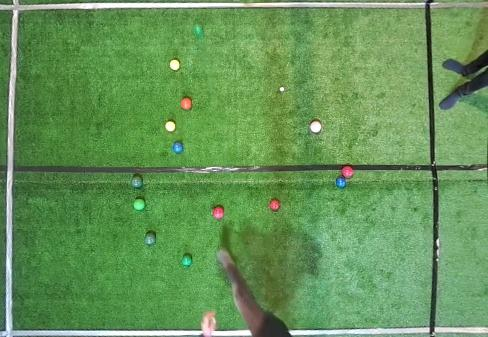blue: (172, 142, 183, 154), (336, 177, 346, 189)
green: (131, 176, 143, 188), (134, 199, 145, 211), (145, 233, 156, 245), (193, 24, 203, 36), (182, 255, 192, 266)
red: (341, 166, 354, 178), (180, 97, 192, 110), (310, 121, 322, 133), (213, 207, 224, 219), (269, 200, 280, 211)
vline: (424, 0, 487, 336), (0, 0, 21, 336)
white: (280, 87, 284, 91)
yellow: (165, 121, 176, 132), (170, 60, 180, 70)
